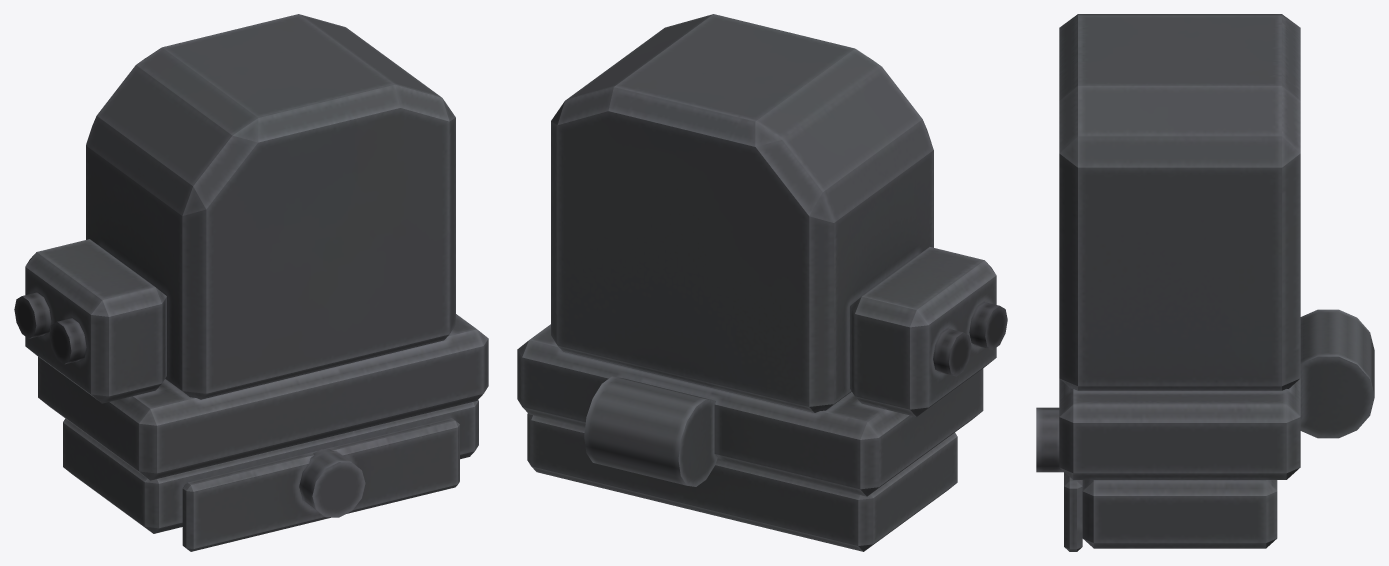
Rendered from AT_HoloSight.fbx.
The picture shows the model from 3 angles, left to right: view 1: azimuth 30°, elevation 25°; view 2: azimuth 150°, elevation 25°; view 3: azimuth 270°, elevation 25°; orthographic projection. The views are drawn at different scales.
Visible parts, largest first — view 1: AT_HoloSight; view 2: AT_HoloSight; view 3: AT_HoloSight.
Part boxes in pixels (x1,y1,x2,y2): AT_HoloSight: (14, 14, 488, 551); AT_HoloSight: (517, 14, 1007, 551); AT_HoloSight: (1036, 14, 1374, 551).
Size of the model in its own units: 0.052 by 0.052 by 0.0365.
Materials: 1 (1 with a texture image).
